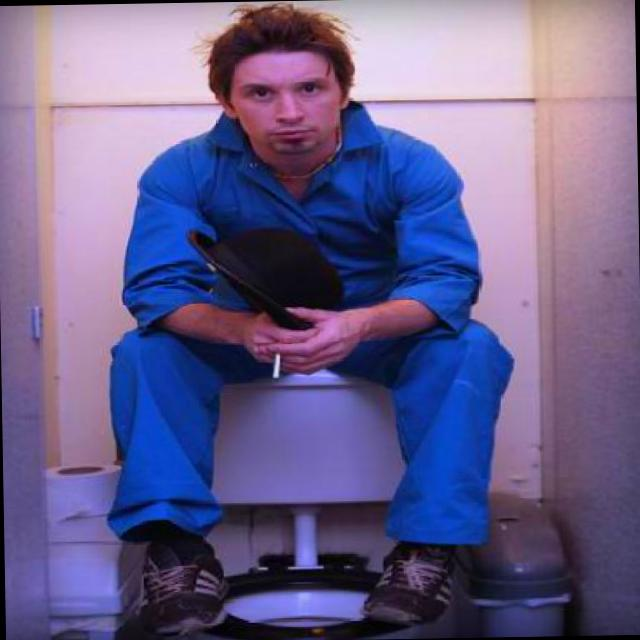Person: (94, 0, 525, 630)
